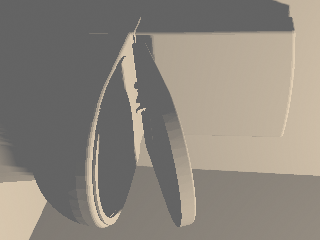lid_1: (132, 38, 195, 226)
